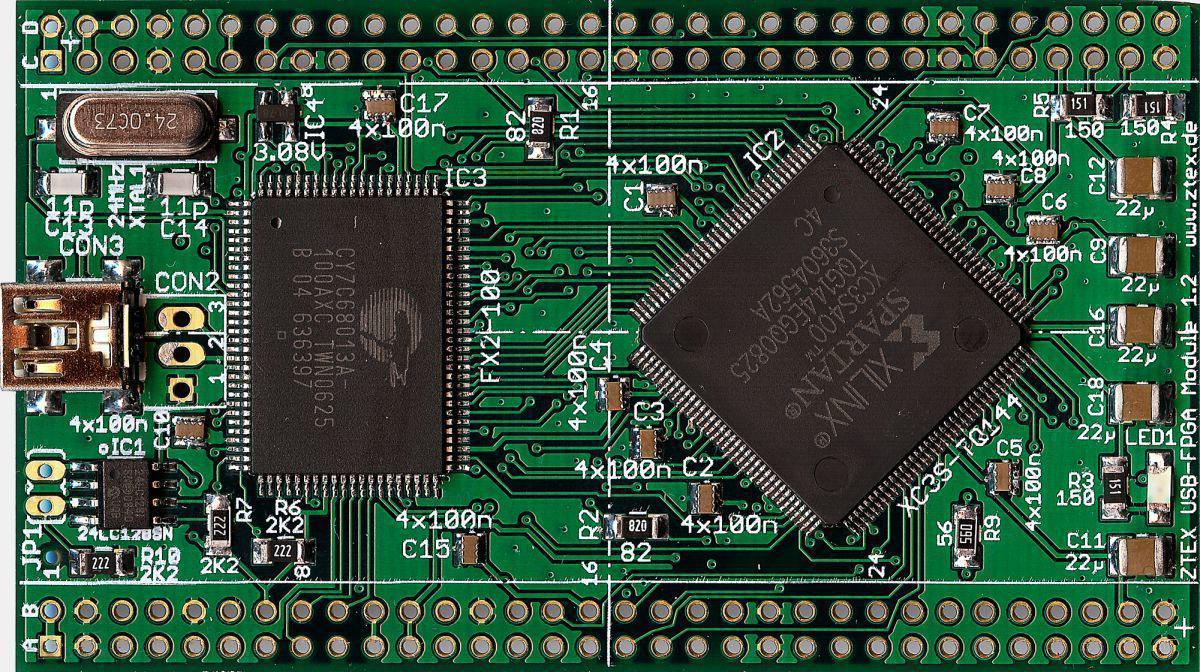Capacitor: (1107, 233, 1174, 278), (1107, 156, 1175, 199), (1107, 382, 1174, 423), (1108, 535, 1172, 576), (1106, 305, 1172, 344), (144, 168, 212, 194), (33, 169, 101, 195), (452, 530, 489, 567), (643, 181, 678, 215), (597, 375, 630, 410), (986, 460, 1019, 493), (363, 88, 397, 120), (1025, 213, 1060, 243), (927, 110, 959, 142), (631, 426, 663, 458), (983, 172, 1015, 203), (689, 481, 719, 514), (172, 417, 207, 444)
Connector: (24, 583, 1199, 669), (20, 3, 1198, 80), (1, 283, 138, 390), (141, 295, 223, 407), (25, 452, 65, 522)
IC: (628, 131, 1037, 536), (225, 174, 469, 498), (69, 459, 177, 527), (254, 87, 296, 141)
Led: (1145, 449, 1172, 524)
Resistor: (1119, 91, 1185, 121), (524, 95, 554, 161), (951, 503, 980, 568), (1101, 455, 1130, 519), (1051, 91, 1112, 121), (602, 511, 668, 538), (70, 547, 136, 574), (204, 493, 232, 555), (251, 537, 314, 563)
